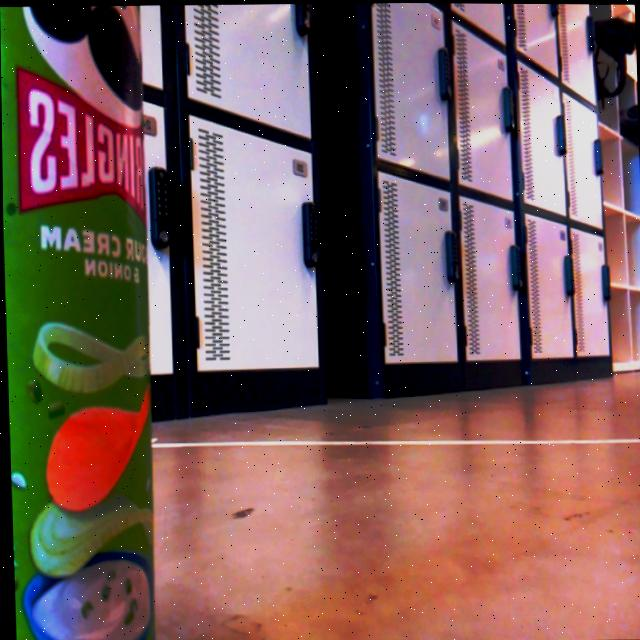greenpringles: (0, 2, 181, 640)
